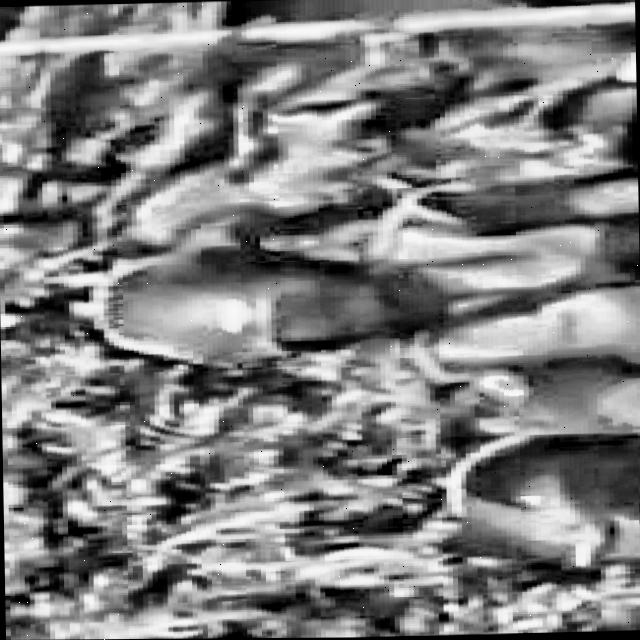Lori: (39, 25, 640, 640)
